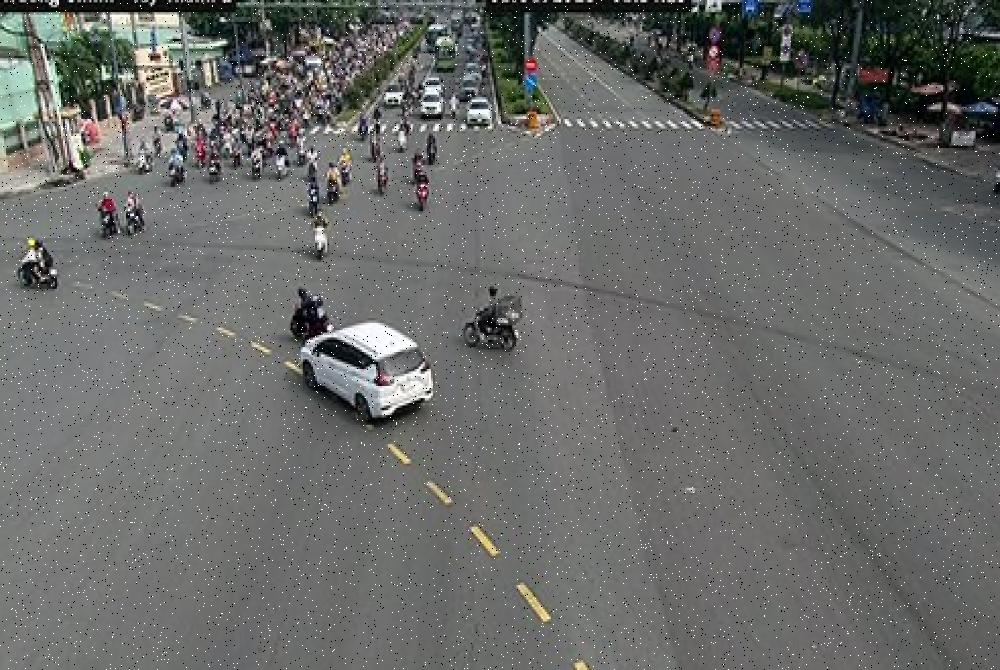car: (301, 320, 435, 432)
